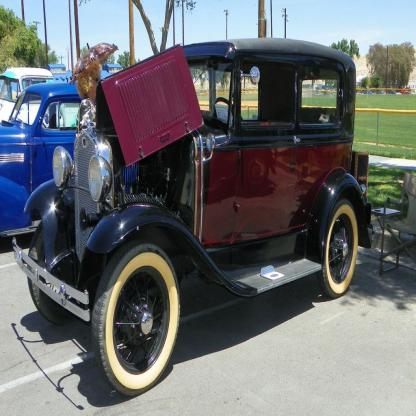Car: (11, 37, 371, 397)
